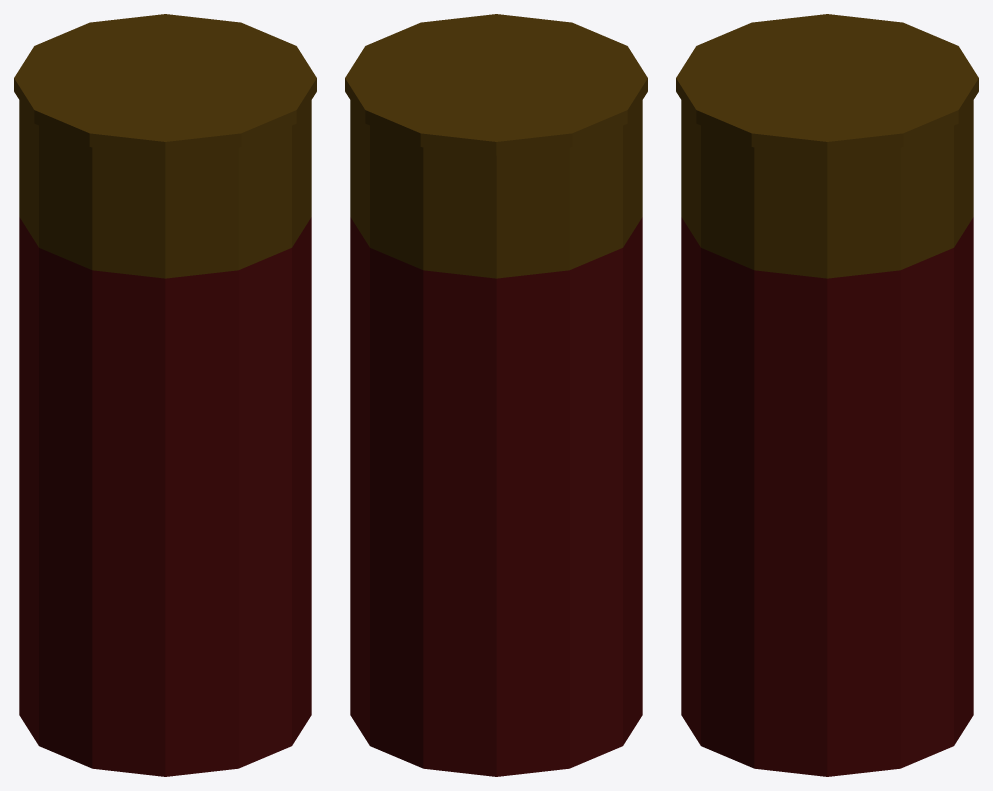
Rendered from pocisk.fbx.
3 views of the same model, side by side, from view 1: azimuth 30°, elevation 25°; view 2: azimuth 150°, elevation 25°; view 3: azimuth 270°, elevation 25° (orthographic).
Visible parts, largest first — view 1: Cylinder001; view 2: Cylinder001; view 3: Cylinder001.
Part boxes in pixels (box(x1,y1,x2,y2)): Cylinder001: box(14, 14, 316, 776); Cylinder001: box(345, 14, 647, 776); Cylinder001: box(676, 14, 978, 776).
Bounding box in the file's own units: 10.8 × 25.08 × 10.8.
